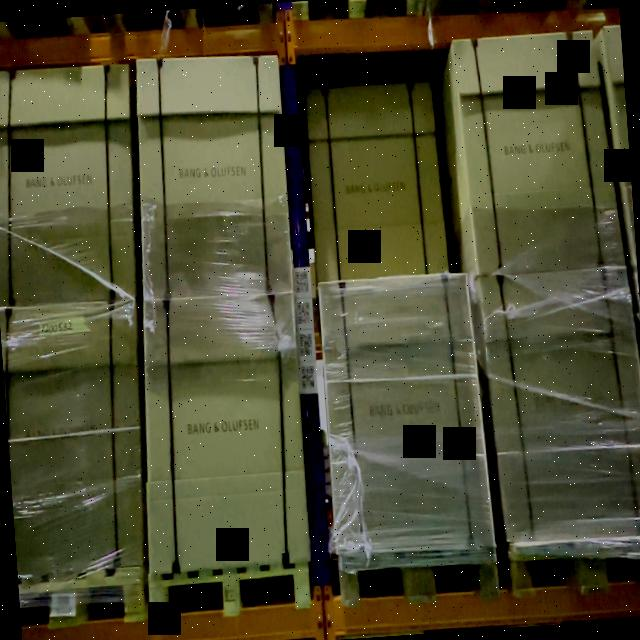box: (320, 280, 486, 555), (146, 296, 308, 566), (138, 50, 292, 298), (458, 36, 612, 272), (304, 83, 446, 277)
